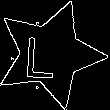L_N: (33, 28, 67, 80)
